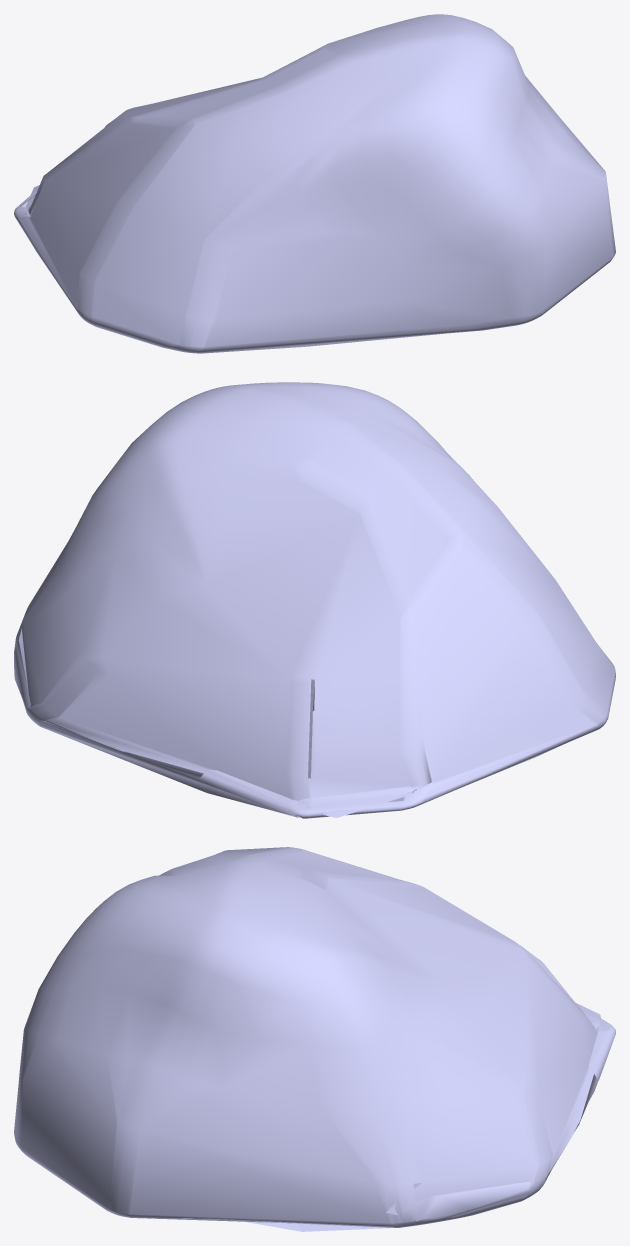
The model's file is SnowPile03.fbx.
The picture shows the model from 3 angles, top to bottom: view 1: azimuth 30°, elevation 25°; view 2: azimuth 150°, elevation 25°; view 3: azimuth 270°, elevation 25°; orthographic projection. The views are drawn at different scales.
Parts seen in each view (by area): view 1: SnowPile3; view 2: SnowPile3; view 3: SnowPile3.
Boxes of the visible parts, x1,y1,x2,y2 form: SnowPile3: [14, 14, 615, 353]; SnowPile3: [14, 382, 615, 818]; SnowPile3: [14, 847, 615, 1231].
Bounding box in the file's own units: 1200 × 536 × 1140.
